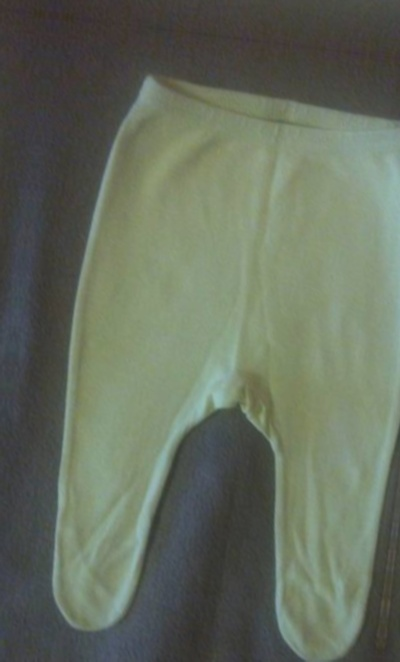Pants: (26, 62, 400, 662), (379, 106, 400, 662), (107, 0, 400, 24)
